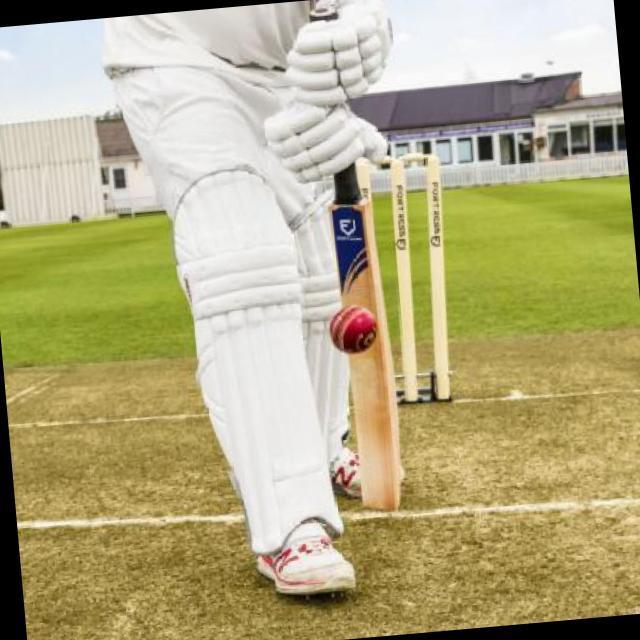-: (327, 296, 380, 361)
